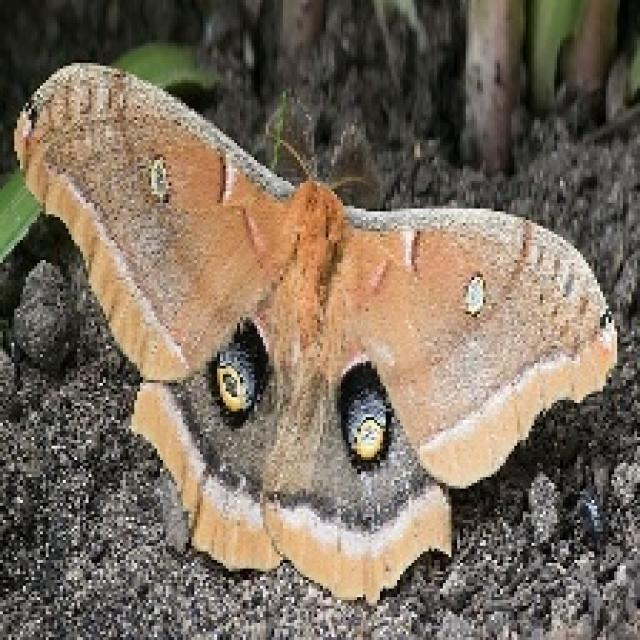butterfly: (11, 57, 620, 606)
